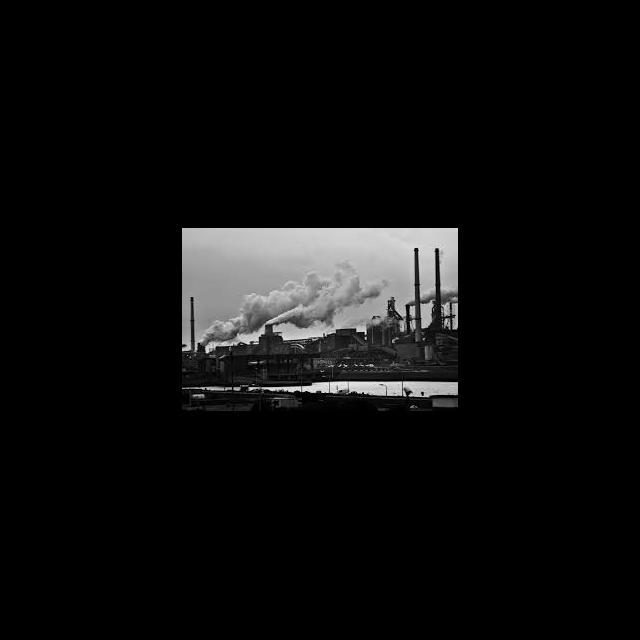Smoke: (201, 266, 377, 344)
